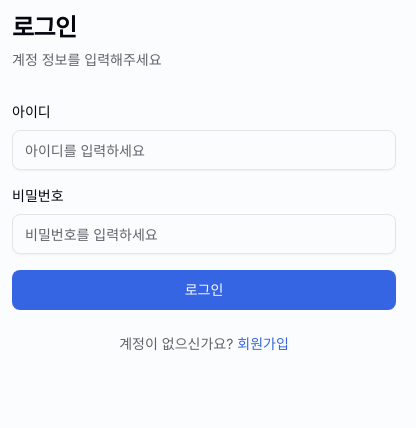
LoginForm › 로그인 실패 시 에러 메시지 표시
Type "wrong" into the field labelled "아이디" at [204, 150], box [12,130,396,170]
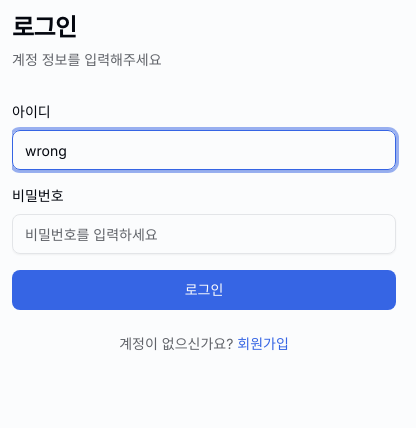
Type "wrong" into the password field labelled "비밀번호" at [204, 234], box [12,214,396,254]
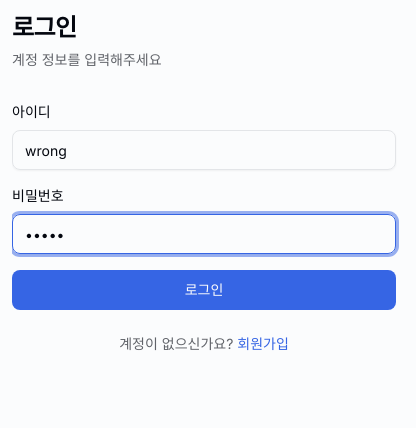
Click the button "로그인" at [204, 290], box [12,270,396,310]
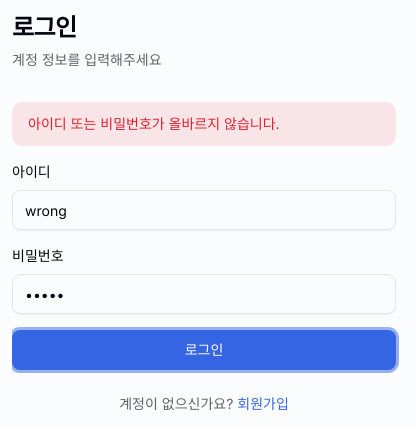
Now the text "아이디 또는 비밀번호가 올바르지 않습니다." is shown, box [12,102,396,146]
